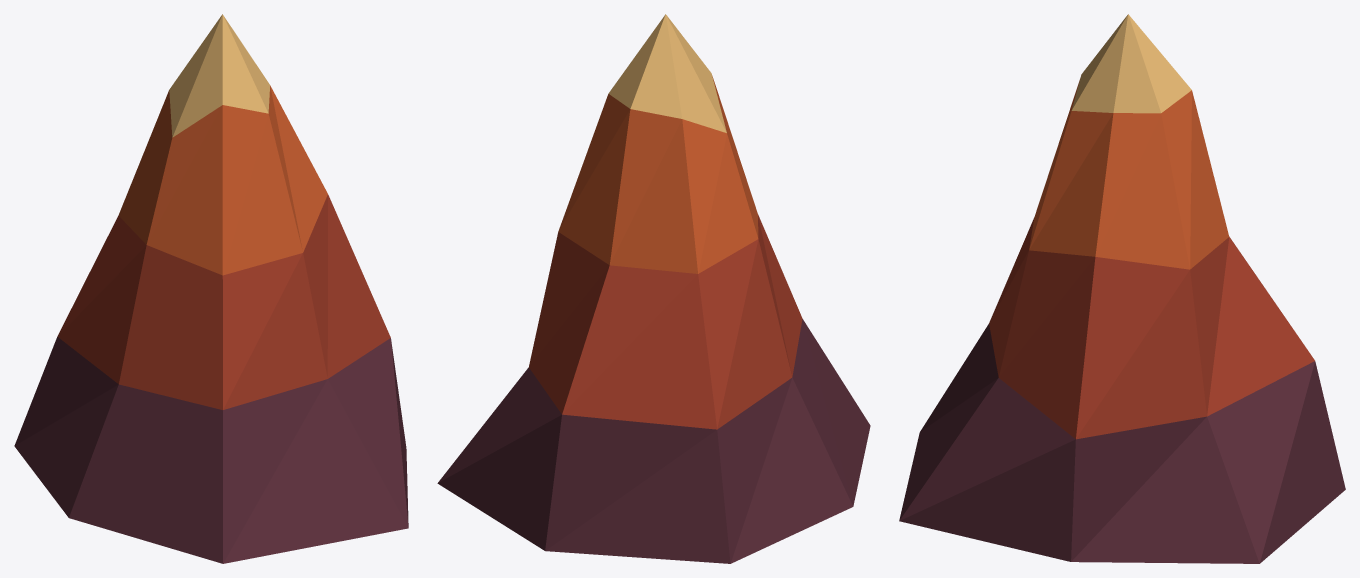
File: Mtn_Peak_A.fbx
3 views of the same model, side by side, from view 1: azimuth 30°, elevation 25°; view 2: azimuth 150°, elevation 25°; view 3: azimuth 270°, elevation 25° (orthographic). The views are drawn at different scales.
Visible parts, largest first — view 1: Mtn_Peak_A; view 2: Mtn_Peak_A; view 3: Mtn_Peak_A.
Part boxes in pixels (x1,y1,x2,y2): Mtn_Peak_A: (14,14,408,563); Mtn_Peak_A: (437,14,870,563); Mtn_Peak_A: (899,14,1345,563).
Bounding box in the file's own units: 26.64 × 35 × 30.22.
